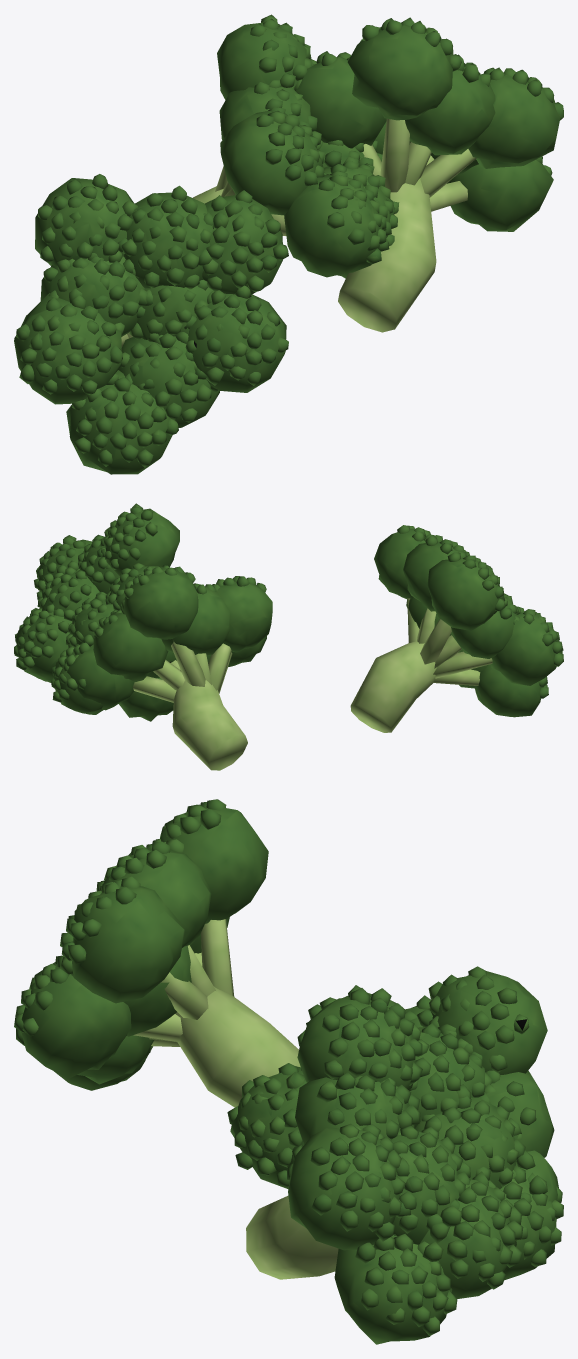
Rendered from broccoli.glb.
3 renders of one model, top to bottom at view 1: azimuth 30°, elevation 25°; view 2: azimuth 150°, elevation 25°; view 3: azimuth 270°, elevation 25°, orthographic. The views are drawn at different scales.
Parts seen in each view (by area): view 1: broccoli; view 2: broccoli; view 3: broccoli.
Part boxes in pixels (left/top/right/bottom): broccoli: left=14, top=14, right=563, bottom=474; broccoli: left=14, top=503, right=563, bottom=770; broccoli: left=14, top=799, right=563, bottom=1344.
Bounding box in the file's own units: 0.0775 × 0.0321 × 0.0505.
1 material, 1 textured.
